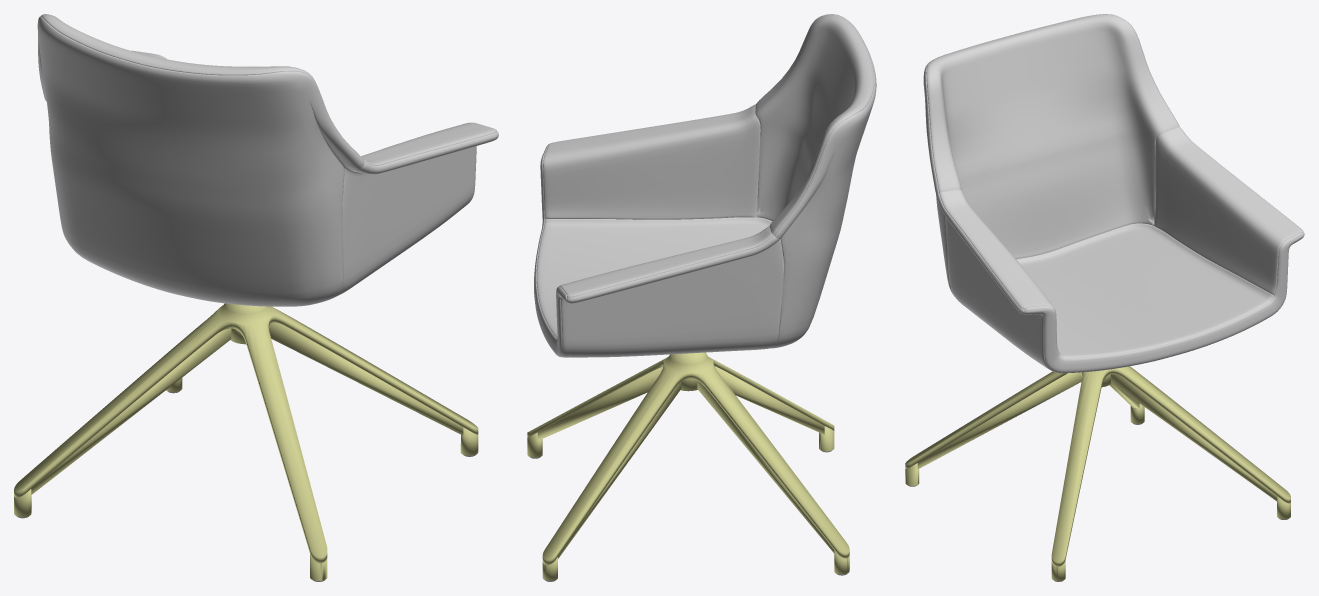
File: chair3.fbx
The picture shows the model from 3 angles, left to right: view 1: azimuth 30°, elevation 25°; view 2: azimuth 150°, elevation 25°; view 3: azimuth 270°, elevation 25°; orthographic projection. The views are drawn at different scales.
Visible parts, largest first — view 1: chair to use chair to use [967646]; view 2: chair to use chair to use [967646]; view 3: chair to use chair to use [967646].
Part boxes in pixels (x1=…): chair to use chair to use [967646]: x1=14, y1=14, x2=498, y2=581; chair to use chair to use [967646]: x1=527, y1=14, x2=876, y2=581; chair to use chair to use [967646]: x1=905, y1=14, x2=1304, y2=581.
Size of the model in its own units: 71.07 by 83.65 by 73.57.
